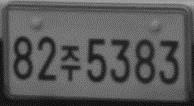2: (36, 36, 57, 82)
3: (109, 38, 131, 83), (159, 39, 179, 84)
5: (86, 37, 107, 84)
8: (133, 38, 156, 85), (12, 35, 33, 80)
주: (60, 44, 81, 83)
